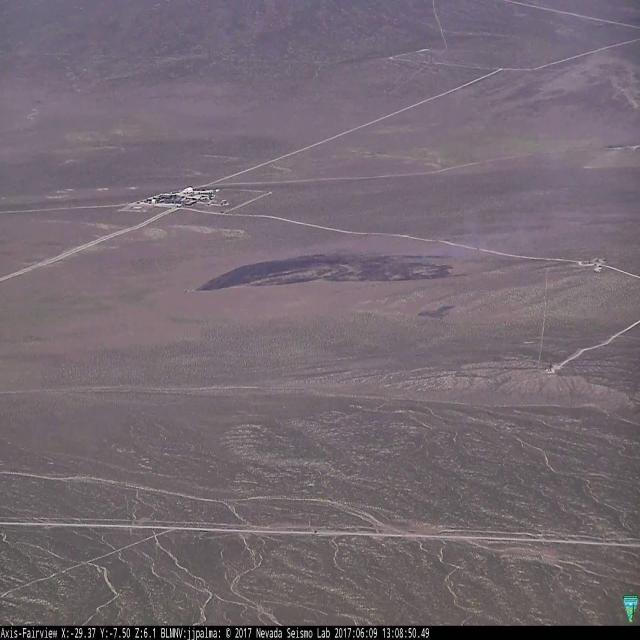smoke: (403, 205, 572, 281)
